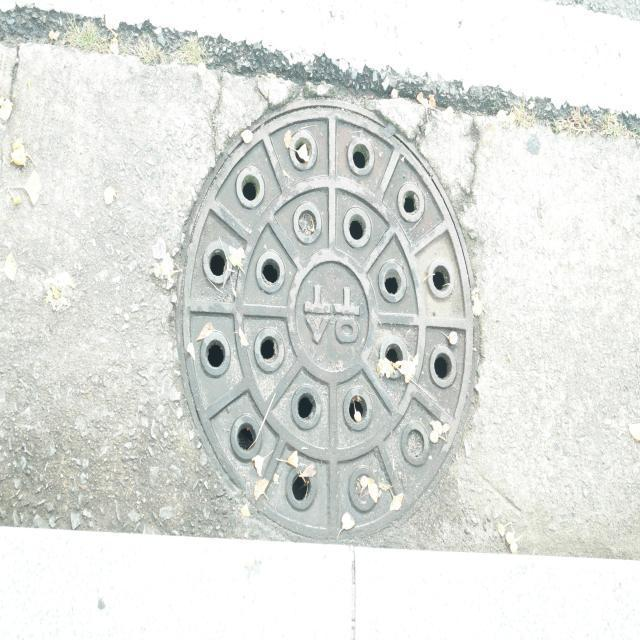manhole: (173, 100, 483, 545)
